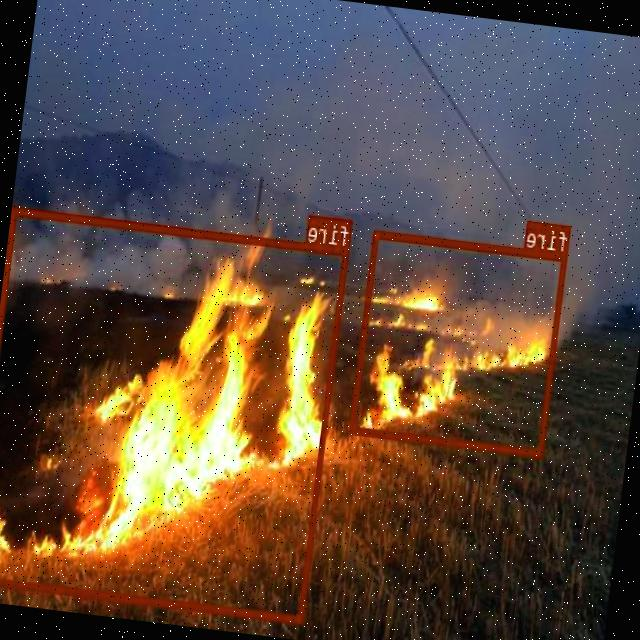fire: (0, 205, 350, 621), (350, 228, 569, 456)
